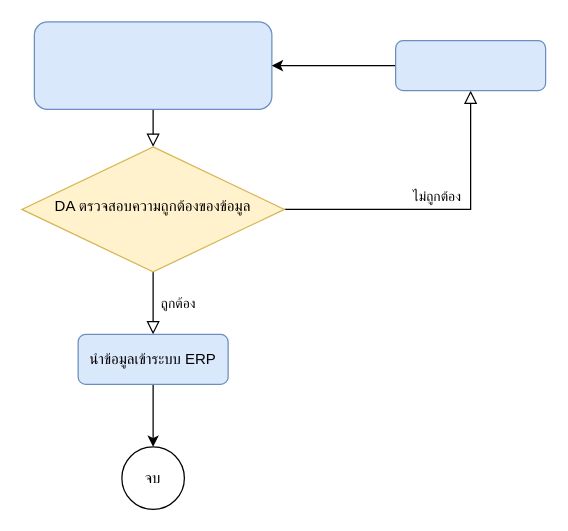
This 568x531 diagram has some shape labels left out. The shapes that lost their labels are listed below. From the top down, each one's centre as x and y in pixels, then its label:
At pixel 152 65: "ฝ่ายที่เกี่ยวข้อง เพิ่มข้อมูล/ลงทะเบียนทำเอกสารสำหรับรหัสต่างๆ".
At pixel 470 65: "แก้ไขข้อมูลแล้วแจ้งให้ข้อมูล".
